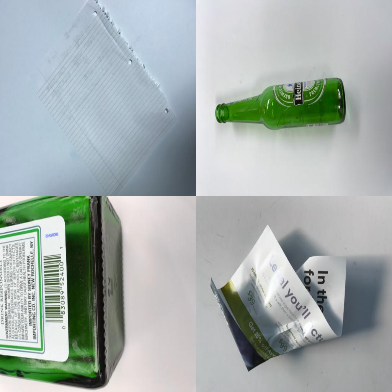glass: (1, 196, 127, 390), (210, 224, 346, 371), (215, 78, 347, 130)
paper: (35, 1, 180, 196)
